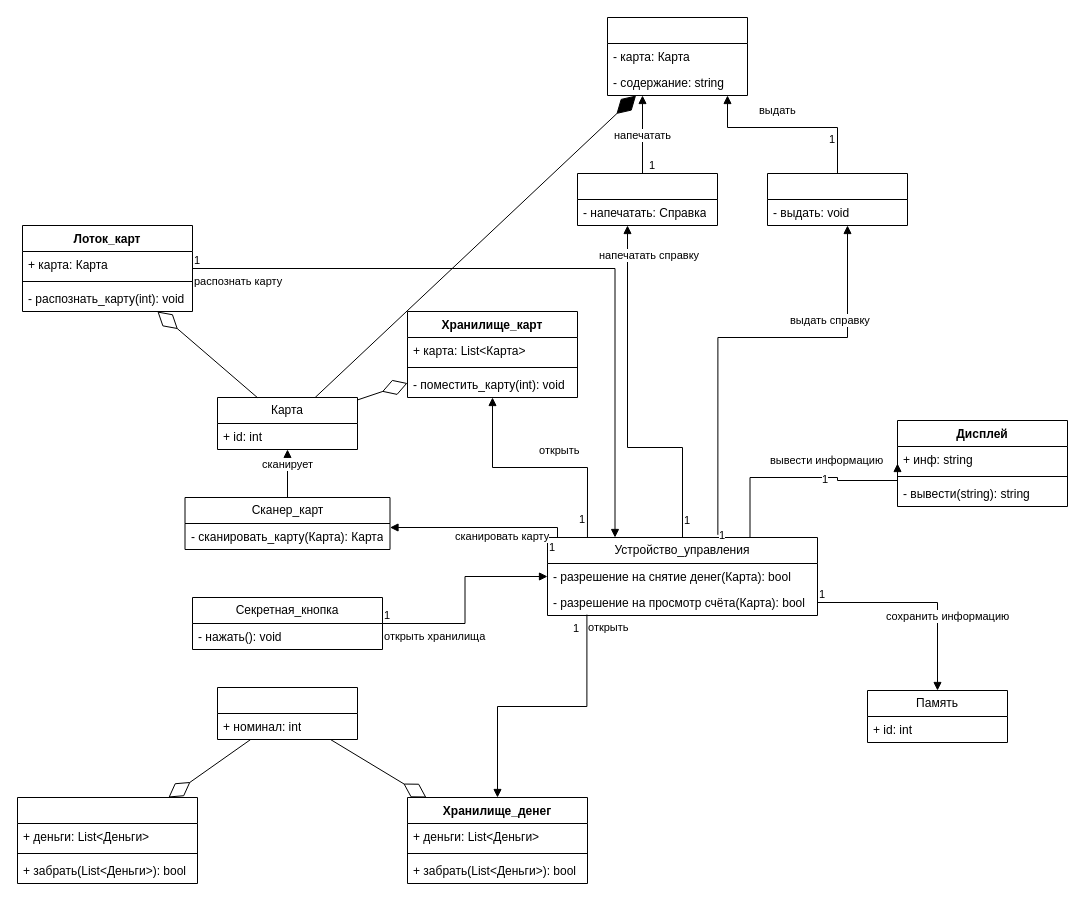
Image size: 1085x904. Some labels were removed from this diagram. Here are the shapes that lost their labels. From the top down, the box of each, then its label:
(606, 16, 748, 96): Справка
(576, 172, 718, 226): Принтер
(766, 172, 908, 226): Лоток_бумаг
(216, 686, 358, 740): Деньги
(16, 796, 198, 884): Лоток_денег
